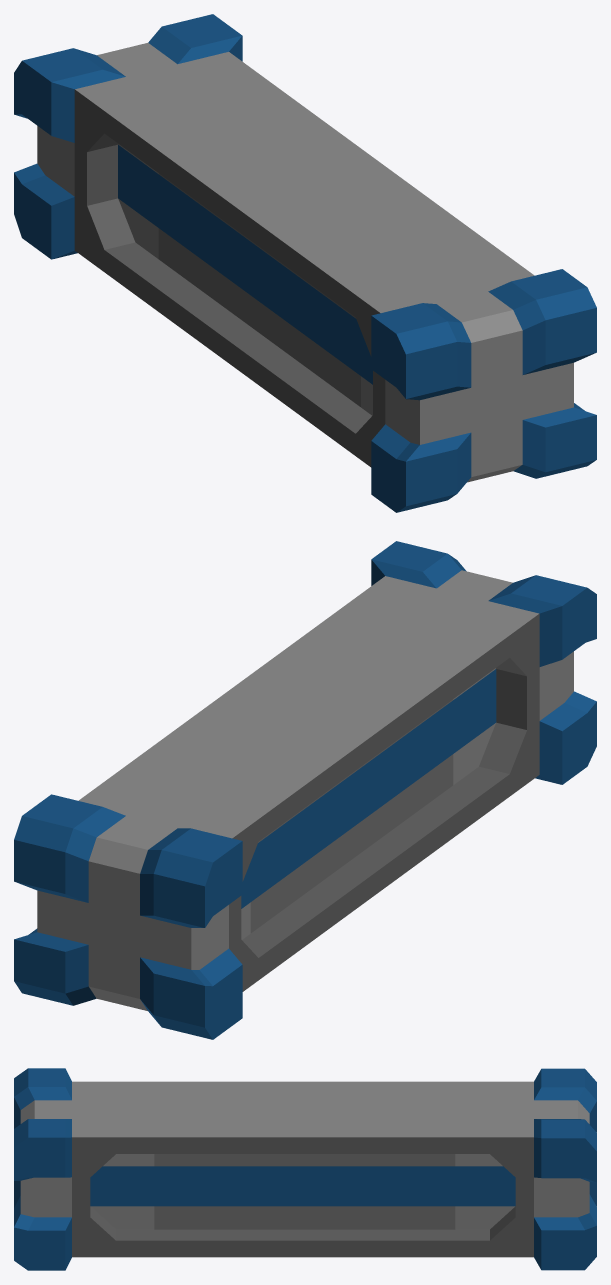
File: space_platform.glb
The picture shows the model from 3 angles, top to bottom: view 1: azimuth 30°, elevation 25°; view 2: azimuth 150°, elevation 25°; view 3: azimuth 270°, elevation 25°; orthographic projection. The views are drawn at different scales.
Parts seen in each view (by area): view 1: Platform; view 2: Platform; view 3: Platform.
Part boxes in pixels (<box>): Platform: <box>14,14,596,512</box>; Platform: <box>14,541,596,1039</box>; Platform: <box>14,1068,596,1270</box>.
Bounding box in the file's own units: 3.63 × 3.25 × 12.88.
Materials: 1 (1 with a texture image).
